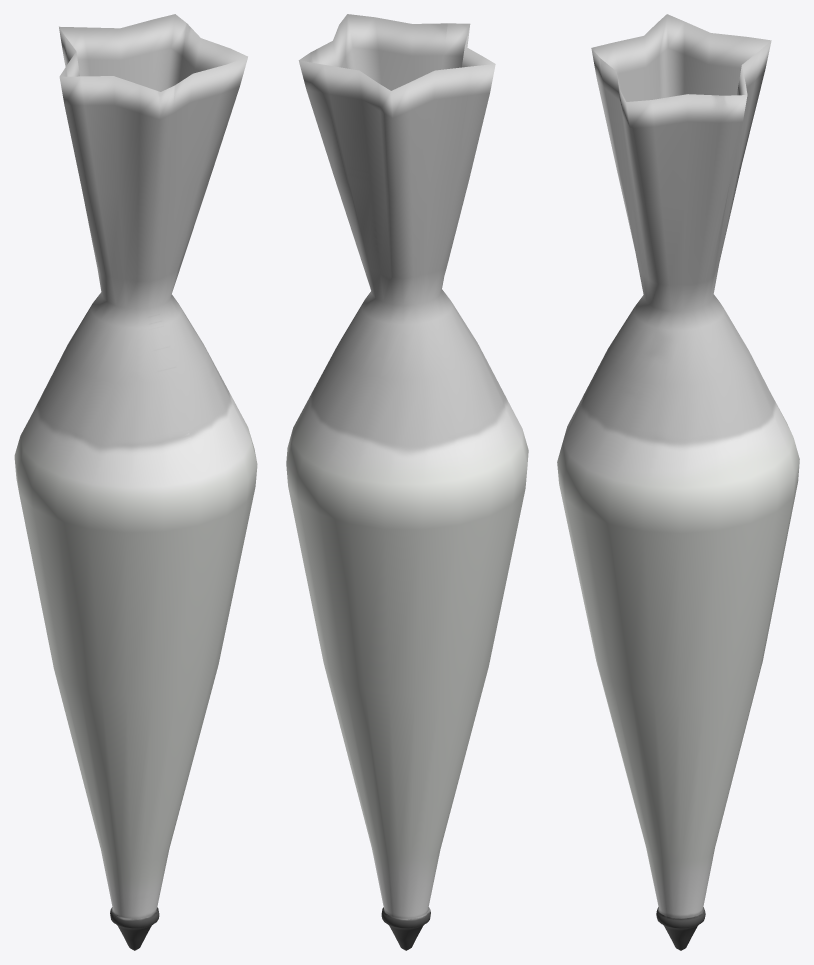
File: pastry.fbx
3 renders of one model, left to right at view 1: azimuth 30°, elevation 25°; view 2: azimuth 150°, elevation 25°; view 3: azimuth 270°, elevation 25°, orthographic.
Parts seen in each view (by area): view 1: pCylinder1; view 2: pCylinder1; view 3: pCylinder1.
Boxes of the visible parts, x1=… form: pCylinder1: x1=14, y1=14, x2=257, y2=950; pCylinder1: x1=286, y1=14, x2=528, y2=950; pCylinder1: x1=557, y1=14, x2=799, y2=950.
Bounding box in the file's own units: 34.09 × 34.05 × 139.
1 material, 1 textured.
